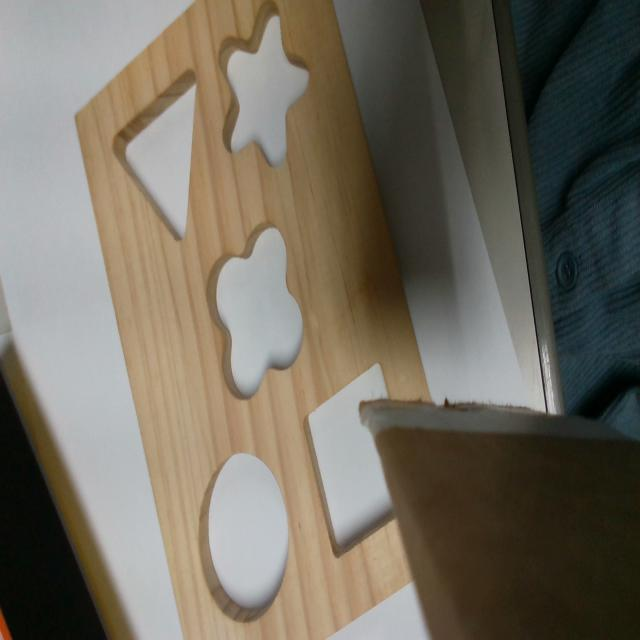circle: (196, 454, 289, 624)
flower: (205, 224, 304, 396)
square: (303, 360, 410, 555)
star: (217, 6, 310, 164)
triangle: (112, 64, 199, 244)
